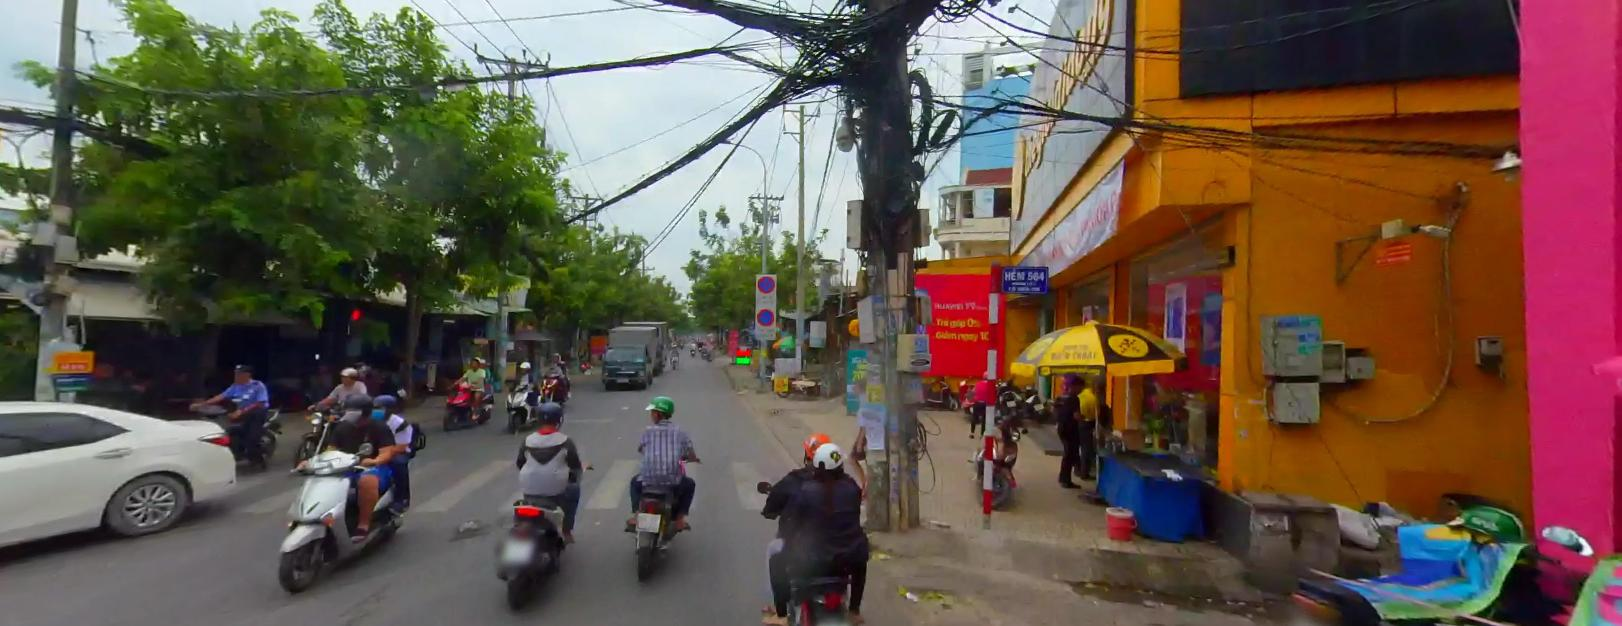Cam dung va do: (756, 306, 774, 324), (757, 273, 775, 291), (755, 307, 774, 324), (757, 274, 775, 291), (757, 274, 774, 291), (757, 308, 773, 324), (757, 275, 773, 291), (757, 308, 773, 323)
